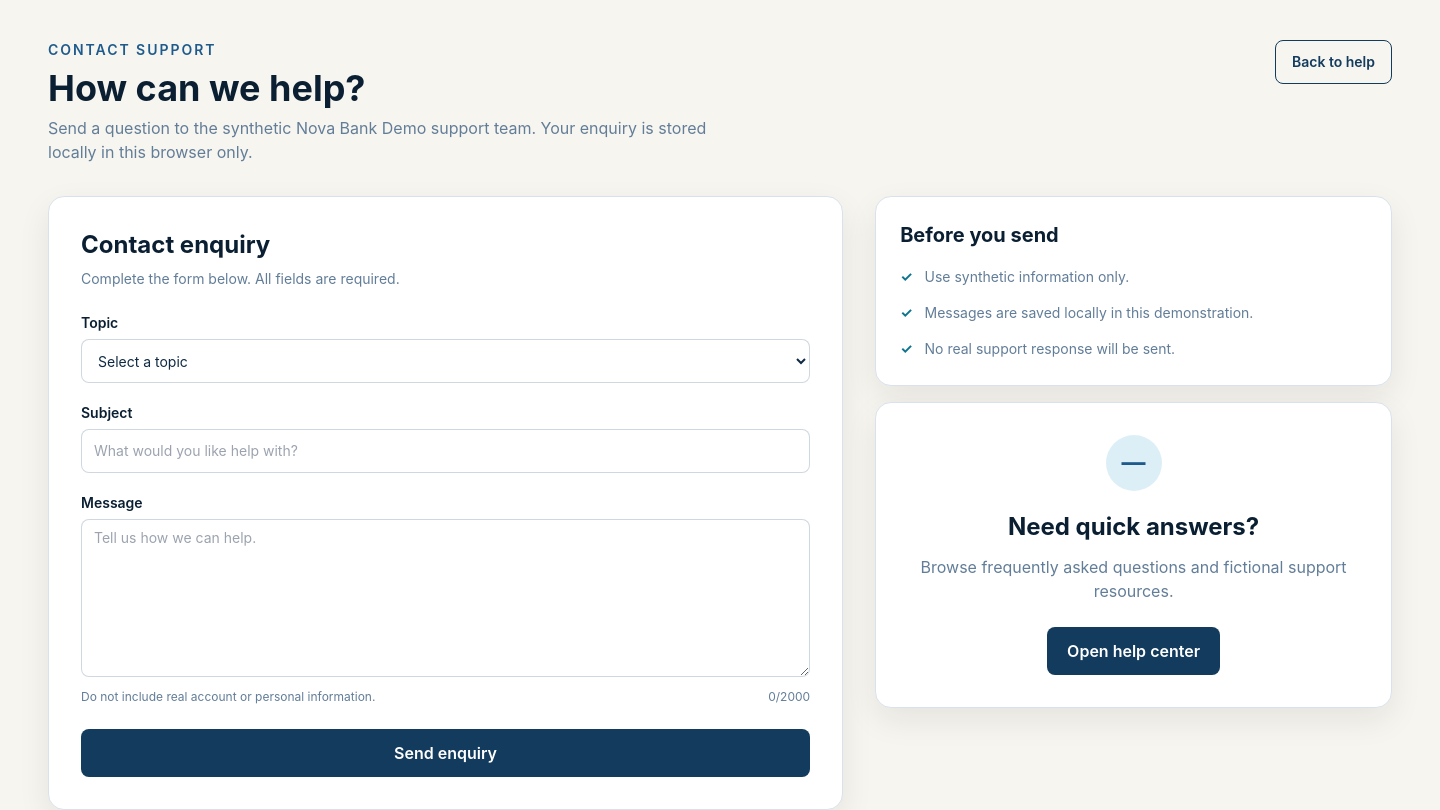
ContactPage › submits a valid enquiry locally and shows confirmation #NB-99214
Select "Transactions" in the dropdown labelled "Topic" at (446,361), box [81, 339, 810, 383]
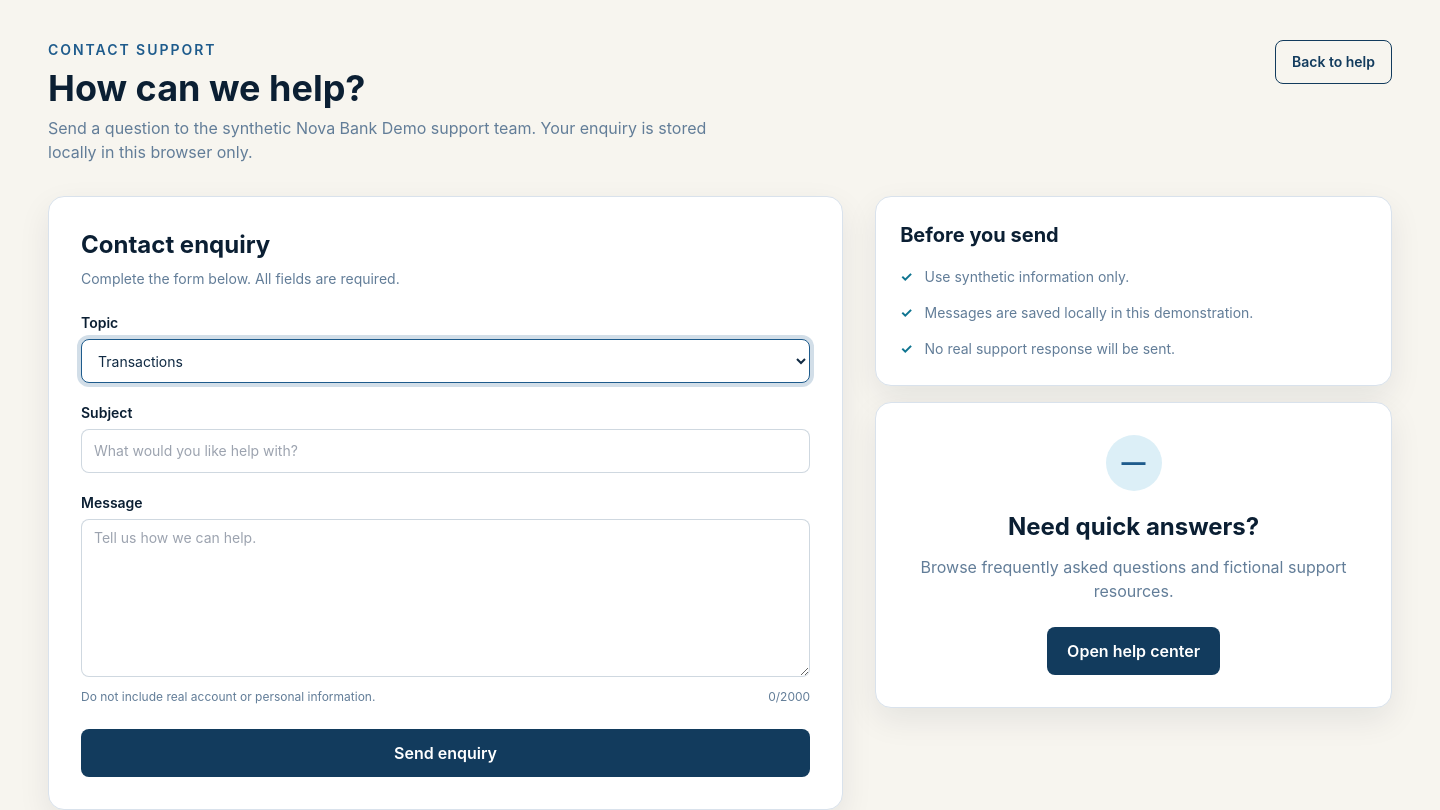
Type "Question about a transaction" into the field labelled "Subject" at (446,451), box [81, 429, 810, 473]
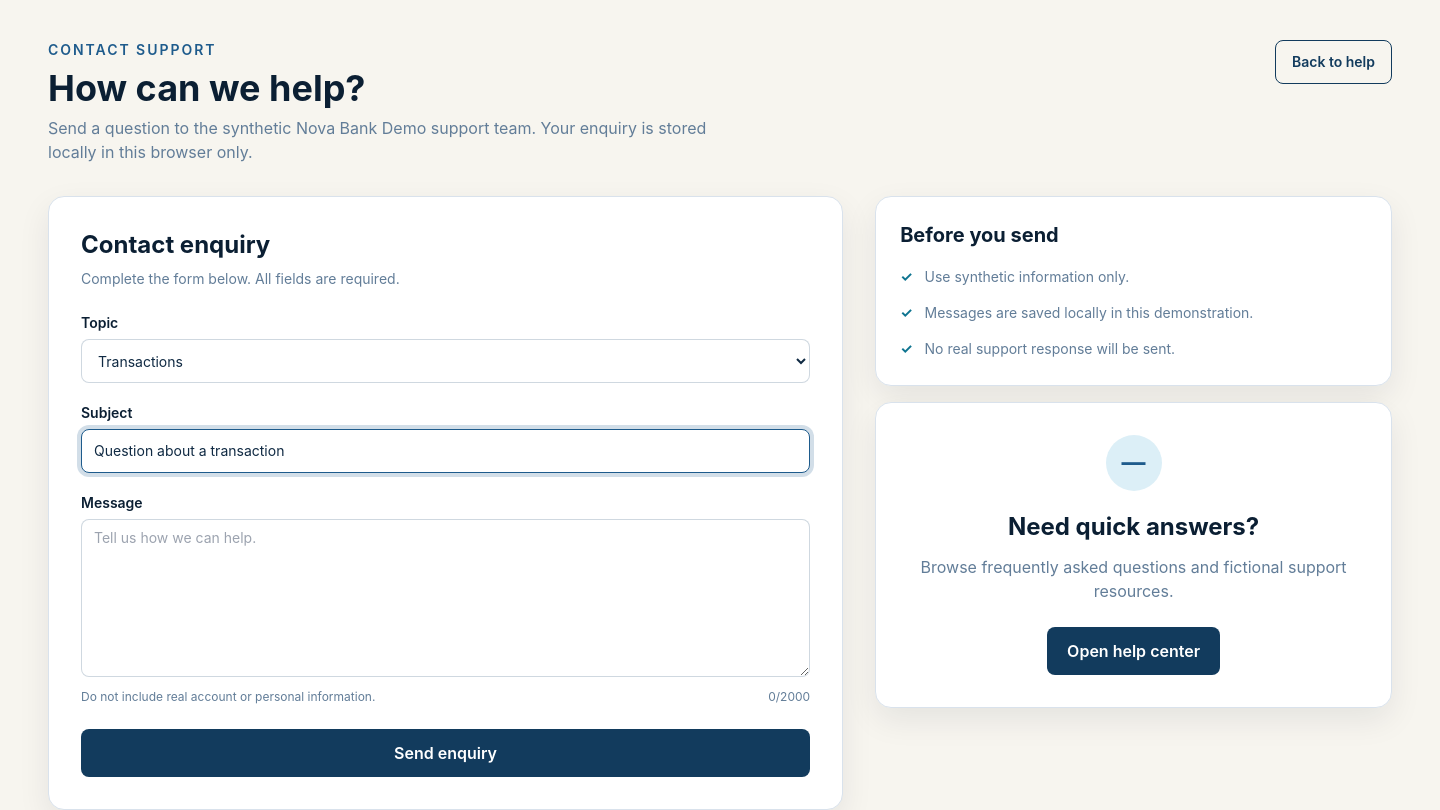
Type "Please explain this synthetic transaction." into the text box labelled "Message" at (446,598), box [81, 519, 810, 677]
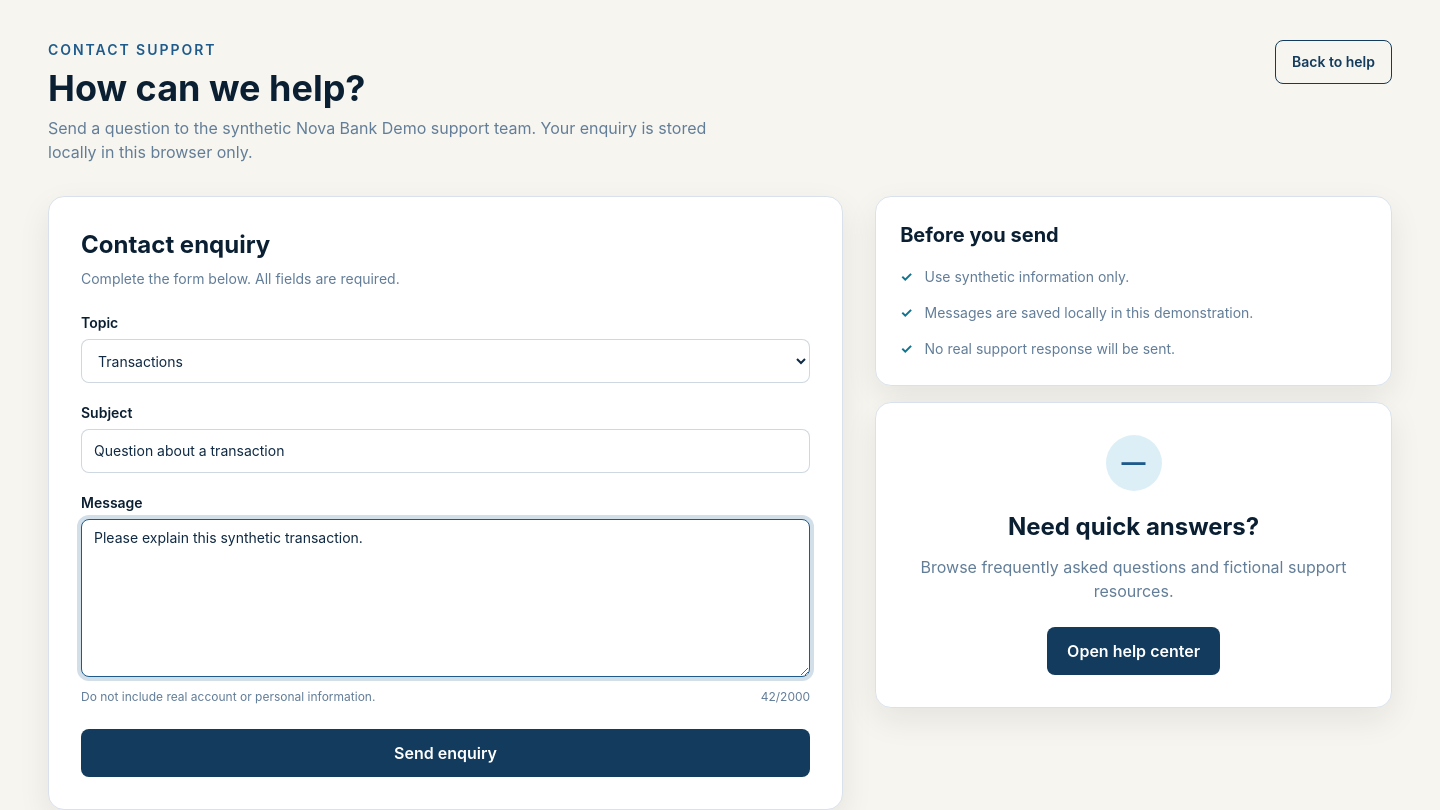
Click the button "Send enquiry" at (446,753), box [81, 729, 810, 777]
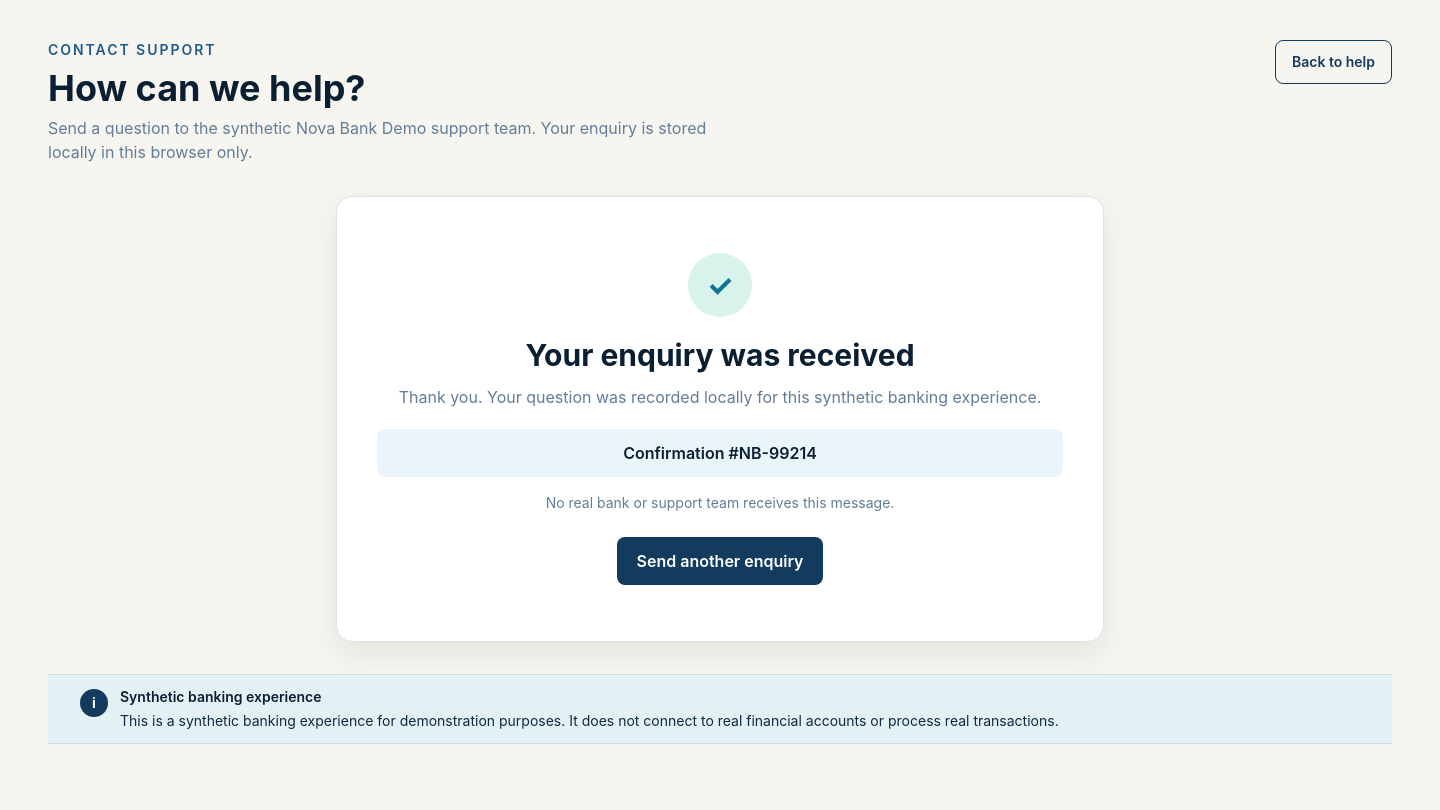
Expected: the heading "Your enquiry was received" is shown, [525, 337, 915, 373]
Expected: the text "Confirmation #NB-99214" is shown, [377, 429, 1063, 477]
Expected: the message shows "Your question was recorded locally for this synthetic banking experience.", [399, 387, 1041, 407]
